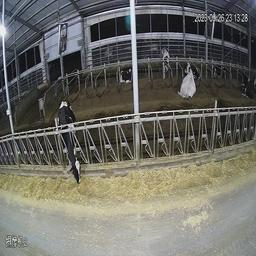cow: (54, 100, 87, 195), (178, 59, 199, 106), (235, 66, 254, 102), (158, 46, 173, 87), (118, 57, 133, 94), (211, 56, 227, 81)
